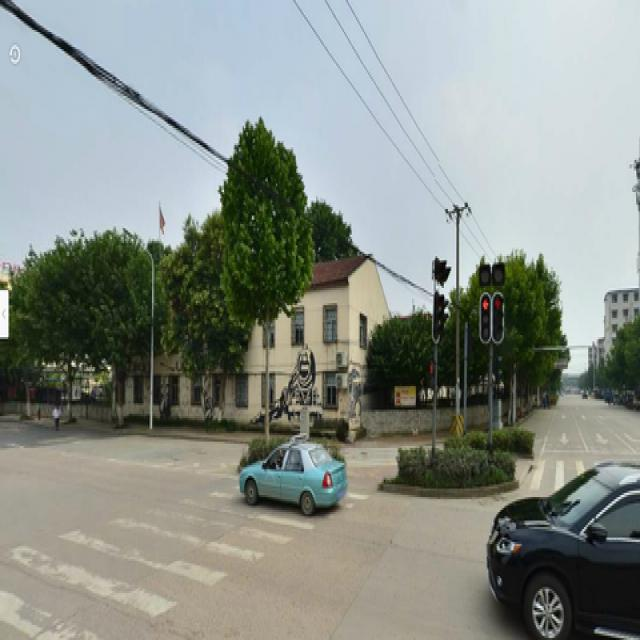meta: (213, 117, 307, 446)
